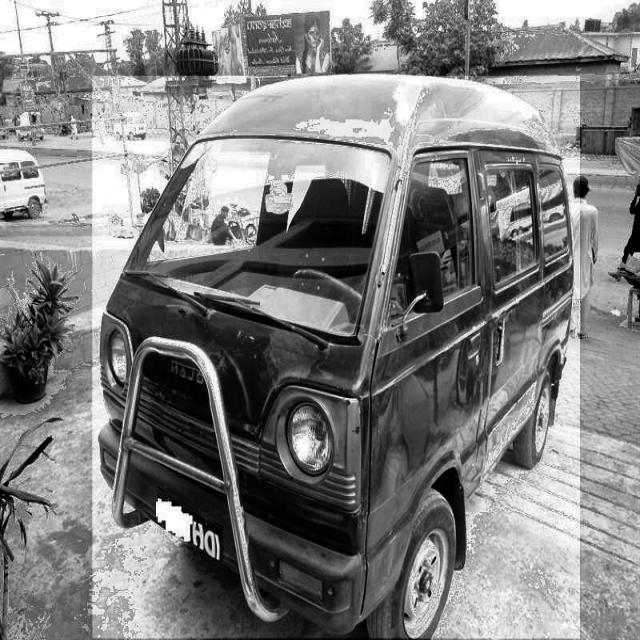LCV: (91, 76, 580, 639)
